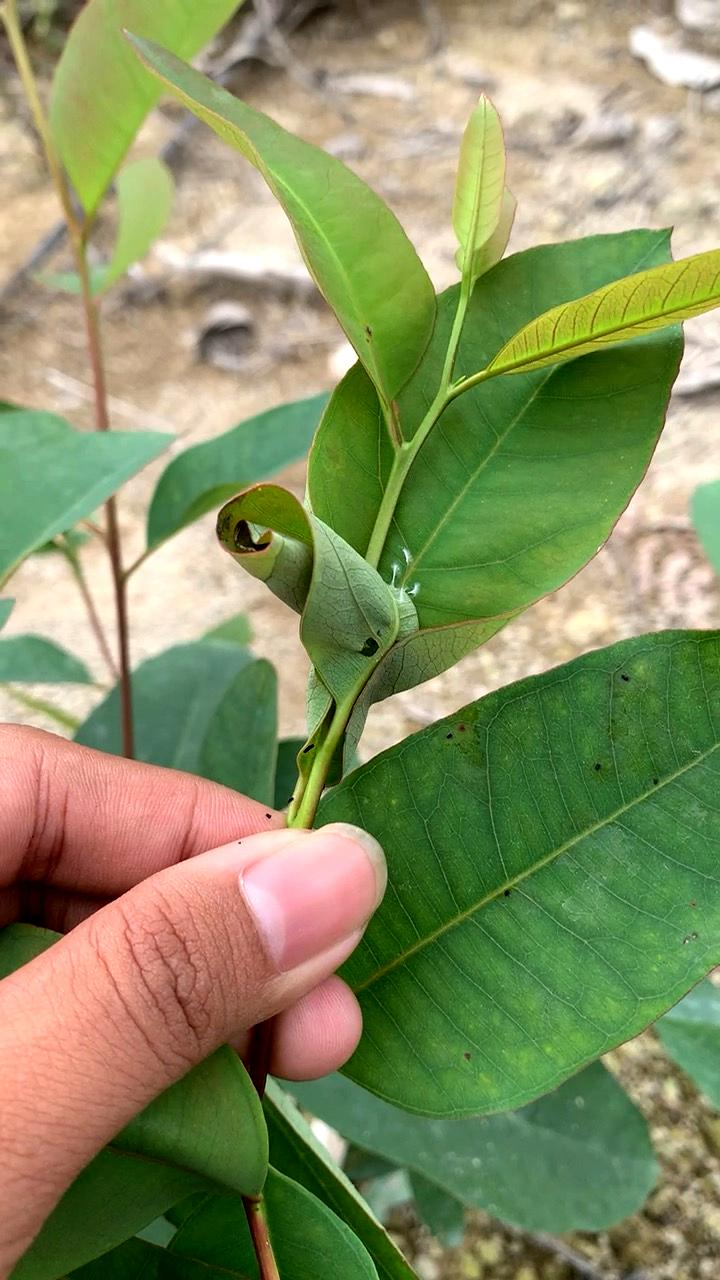Leaf Roller - Leaf: (196, 465, 463, 726)
